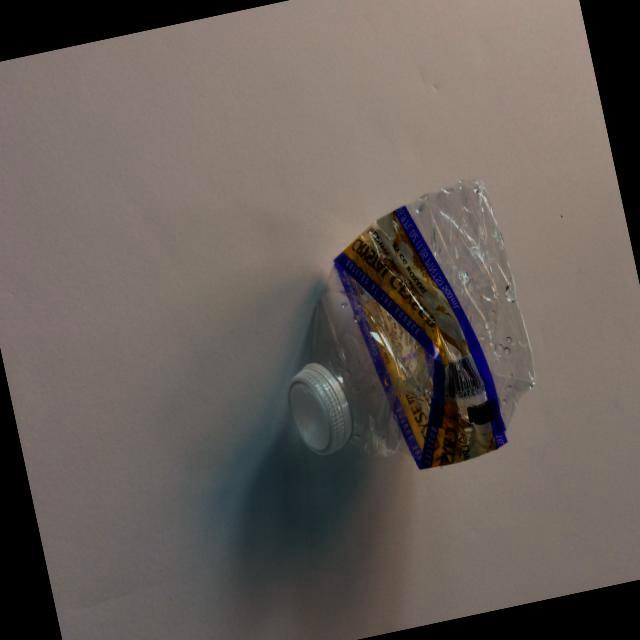plastic: (212, 154, 580, 542)
